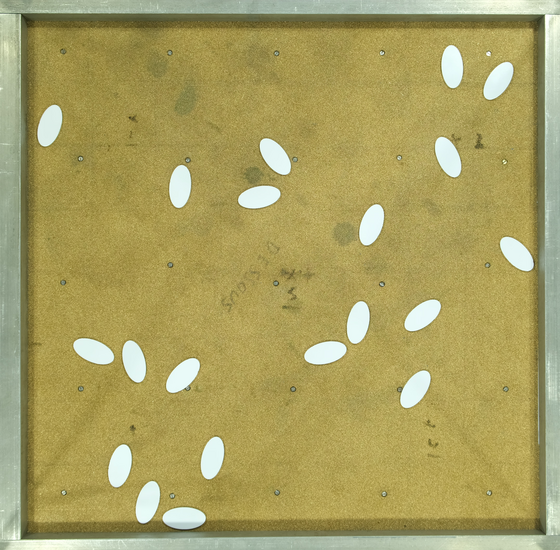pallet: (157, 161, 203, 210), (158, 350, 204, 399), (478, 57, 524, 106), (428, 43, 474, 92), (425, 132, 471, 181), (348, 201, 394, 250), (253, 131, 299, 180), (28, 103, 74, 152), (67, 327, 113, 376), (402, 292, 448, 341), (496, 233, 542, 282), (394, 365, 440, 414), (188, 434, 234, 483), (97, 440, 143, 489), (159, 502, 210, 542), (236, 179, 282, 220), (340, 297, 377, 345), (297, 338, 349, 370), (121, 335, 153, 385), (129, 478, 162, 526)
